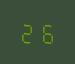six: (37, 19, 54, 44)
two: (19, 19, 36, 43)
